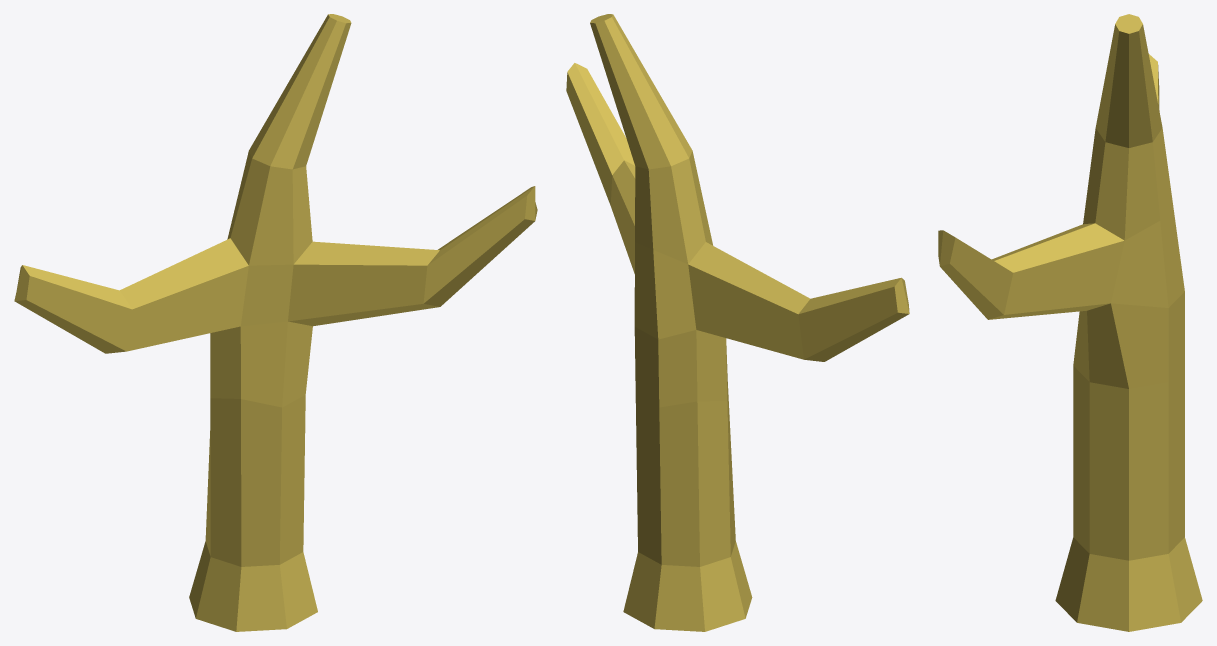
Rendered from Tree1.fbx.
3 renders of one model, left to right at view 1: azimuth 30°, elevation 25°; view 2: azimuth 150°, elevation 25°; view 3: azimuth 270°, elevation 25°, orthographic. The views are drawn at different scales.
Parts seen in each view (by area): view 1: Cylinder; view 2: Cylinder; view 3: Cylinder.
Part boxes in pixels (box(x1,y1,x2,y2)): Cylinder: box(14, 14, 537, 631); Cylinder: box(566, 14, 909, 631); Cylinder: box(938, 14, 1202, 631).
Bounding box in the file's own units: 39537 × 49626 × 18955.
